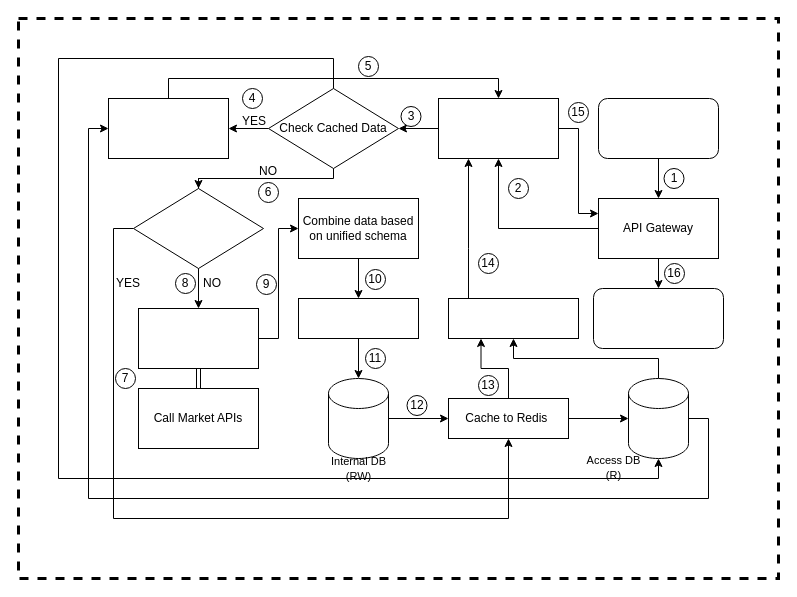
Some shapes in this 797 by 597 pixel diagram are drawn without their labels. The shapes that lost their labels are listed below. From the top down, each one's centre as x and y in pixels, then its label:
At point 168,128: "Get Cached Data".
At point 498,128: "Retreive data".
At point 658,128: "START User Makes Request".
At point 198,228: "Check Internal DB".
At point 198,338: "Ingest Data".
At point 358,318: "Write to Database".
At point 513,318: "Get Newly Cached Data".
At point 658,318: "END User Recieves Response".
At point 358,418: "Cosmos DB".
At point 658,418: "Redis DB".
